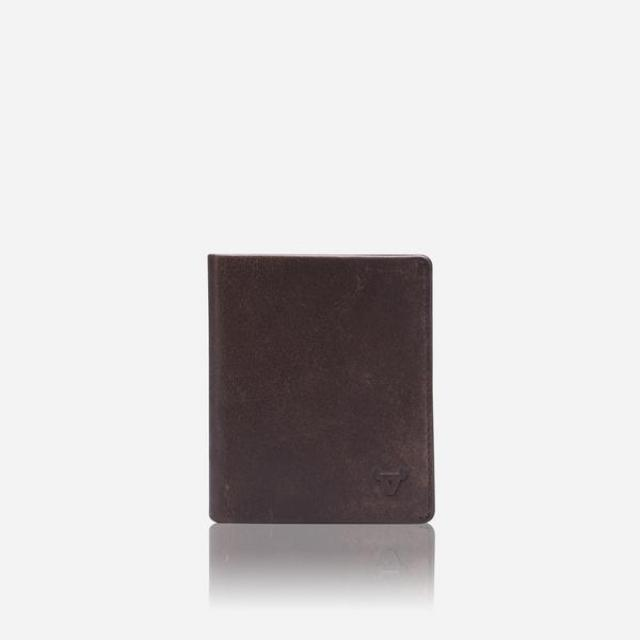wallet: (201, 247, 441, 527)
